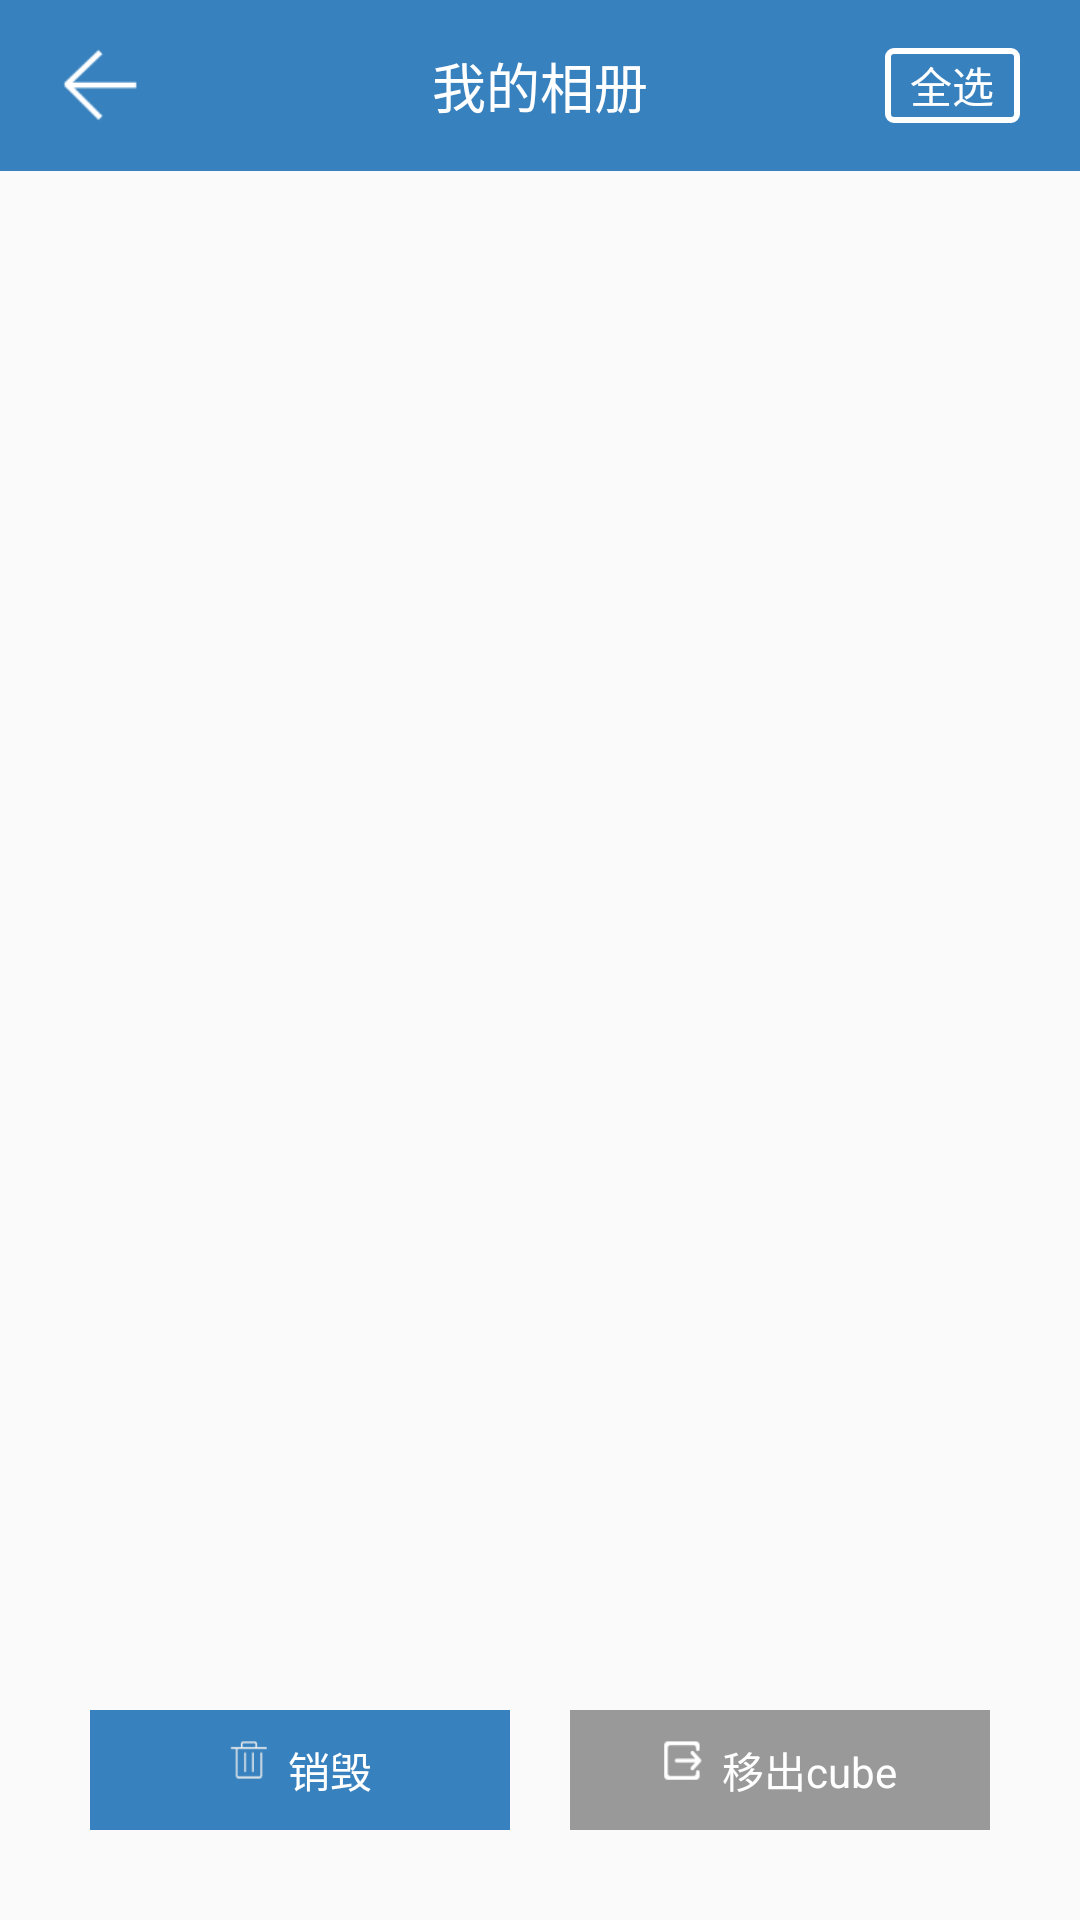

Locate icon controls on the screen. Image size 1080w x 1920h, boxes as bbox=[x1, y1, x2, y2].
activity edit delete photo: bbox=[230, 1741, 267, 1779]
activity lookphoto return photo: bbox=[664, 1741, 702, 1780]
back arrow: bbox=[64, 50, 137, 120]
